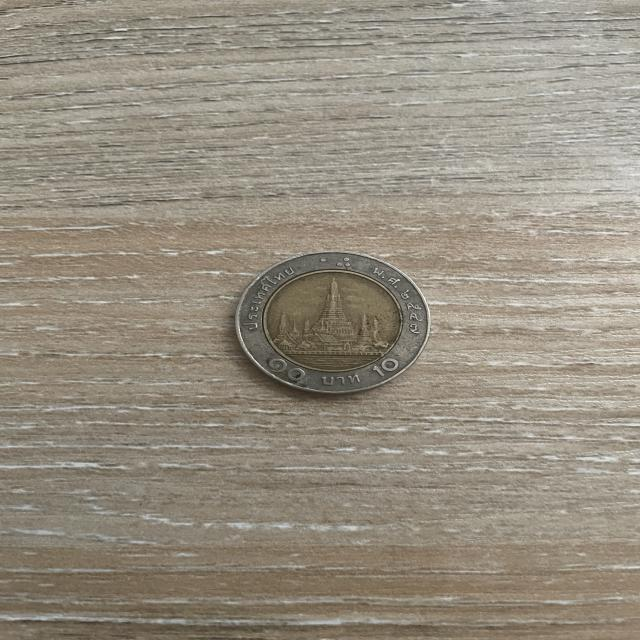10 Bath: (232, 248, 434, 402)
